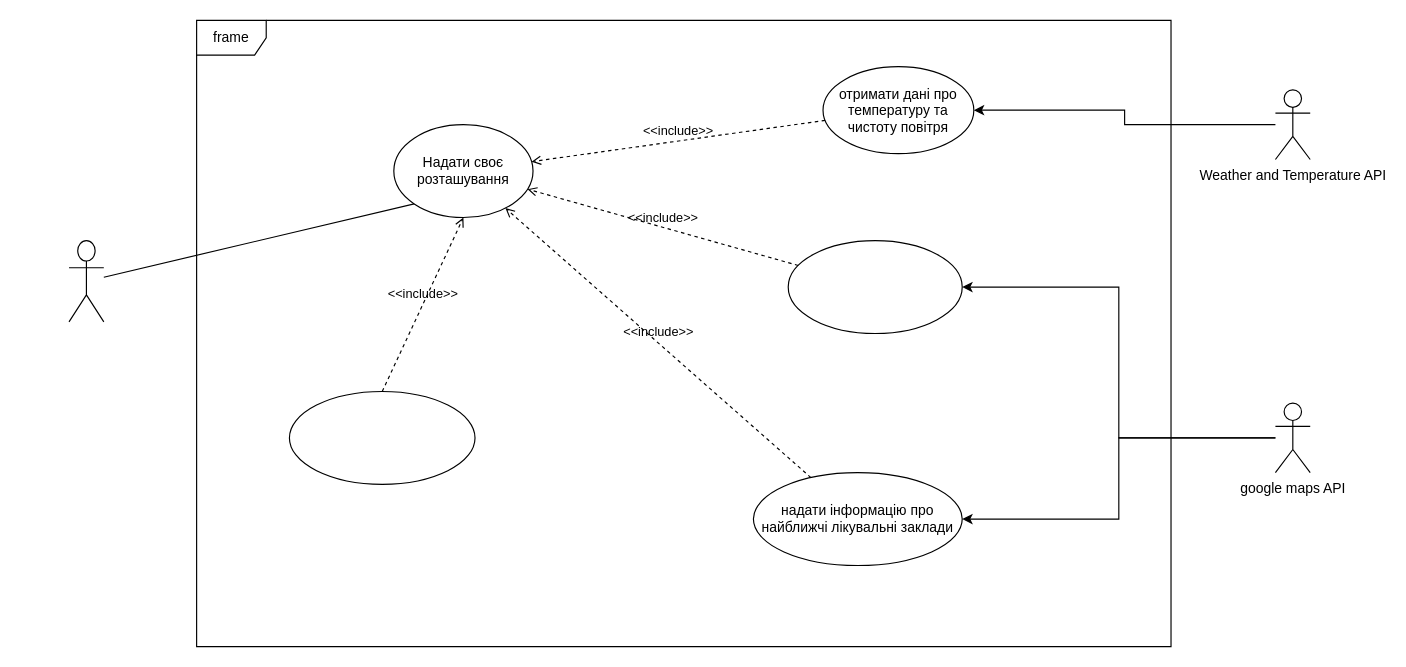
The diagram is 1406 pixels wide and 667 high, and some of its shapes have lost their labels. The shapes that lost their labels are listed below. From the top down, each one's centre as x and y in pixels, then its label:
At point (86, 281): "спортсмен-художник".
At point (874, 287): "надати інформацію про найближчі галереї".
At point (381, 437): "Надіслати Online-повідомлення про якість повітря, температуру на вулиці".
